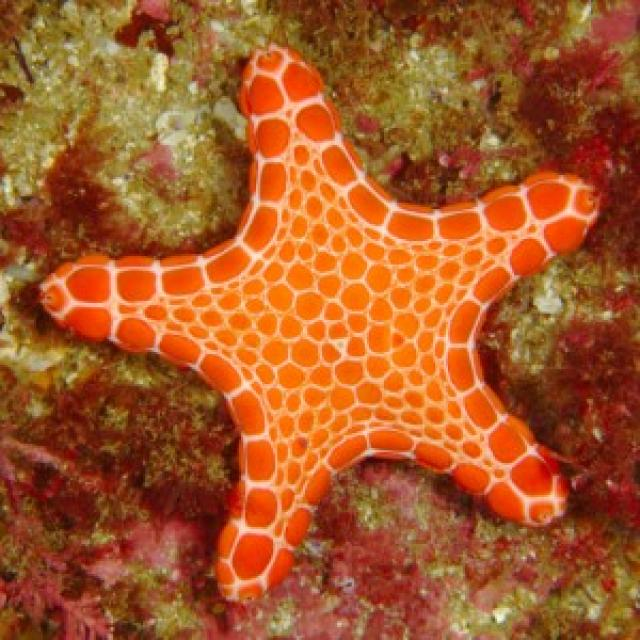Starfish: (34, 32, 618, 609)
